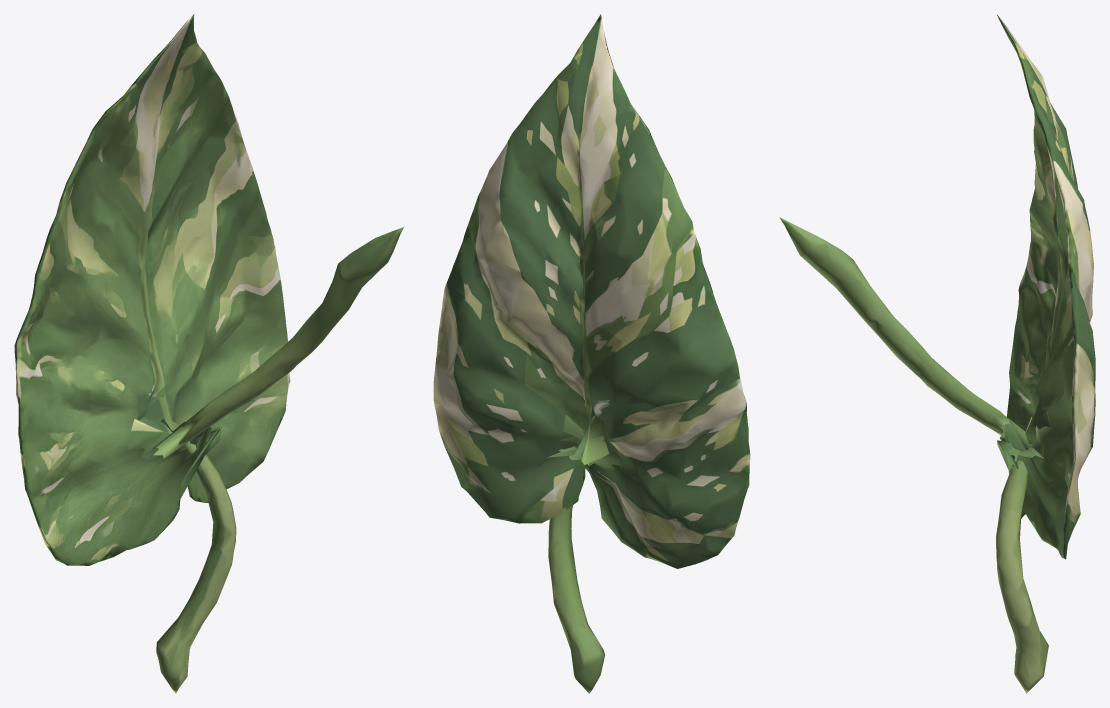
The model's file is sc_leaf_mature_marblequeen.glb.
The picture shows the model from 3 angles, left to right: view 1: azimuth 30°, elevation 25°; view 2: azimuth 150°, elevation 25°; view 3: azimuth 270°, elevation 25°; orthographic projection. The views are drawn at different scales.
Visible parts, largest first — view 1: tripo_node_d061b27a-2a46-440b-9775-fa33c968c646; view 2: tripo_node_d061b27a-2a46-440b-9775-fa33c968c646; view 3: tripo_node_d061b27a-2a46-440b-9775-fa33c968c646.
Part boxes in pixels (x1=…): tripo_node_d061b27a-2a46-440b-9775-fa33c968c646: x1=14, y1=14, x2=403, y2=693; tripo_node_d061b27a-2a46-440b-9775-fa33c968c646: x1=433, y1=14, x2=750, y2=693; tripo_node_d061b27a-2a46-440b-9775-fa33c968c646: x1=779, y1=15, x2=1095, y2=693.
Size of the model in its own units: 0.6214 by 1.38 by 0.5799.
1 material, 1 textured.
